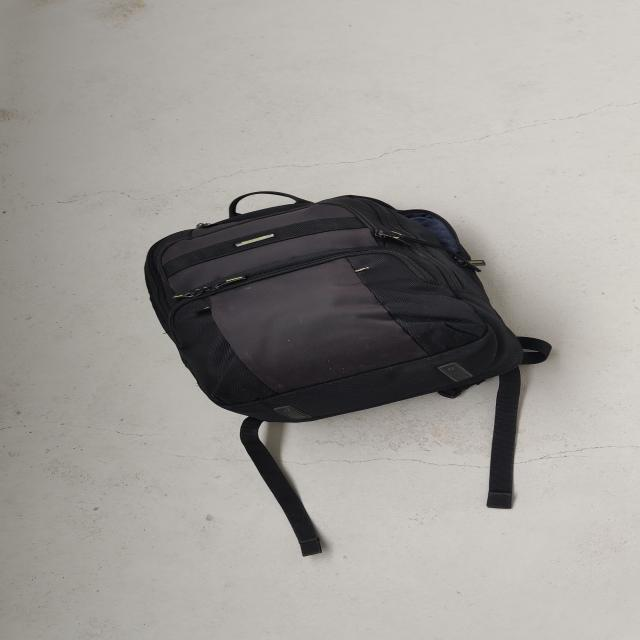backpack: (128, 184, 538, 433)
